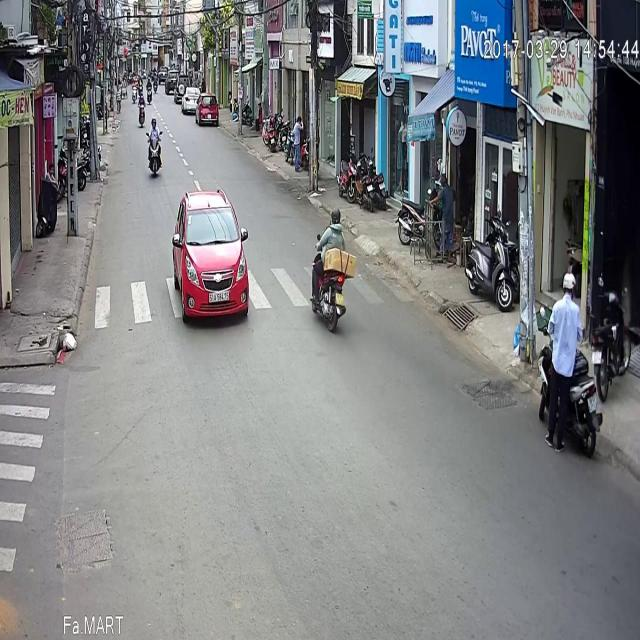car: (171, 130, 248, 266), (196, 34, 218, 68)
motorcycle: (310, 150, 356, 276), (144, 59, 162, 119), (137, 34, 146, 68)
